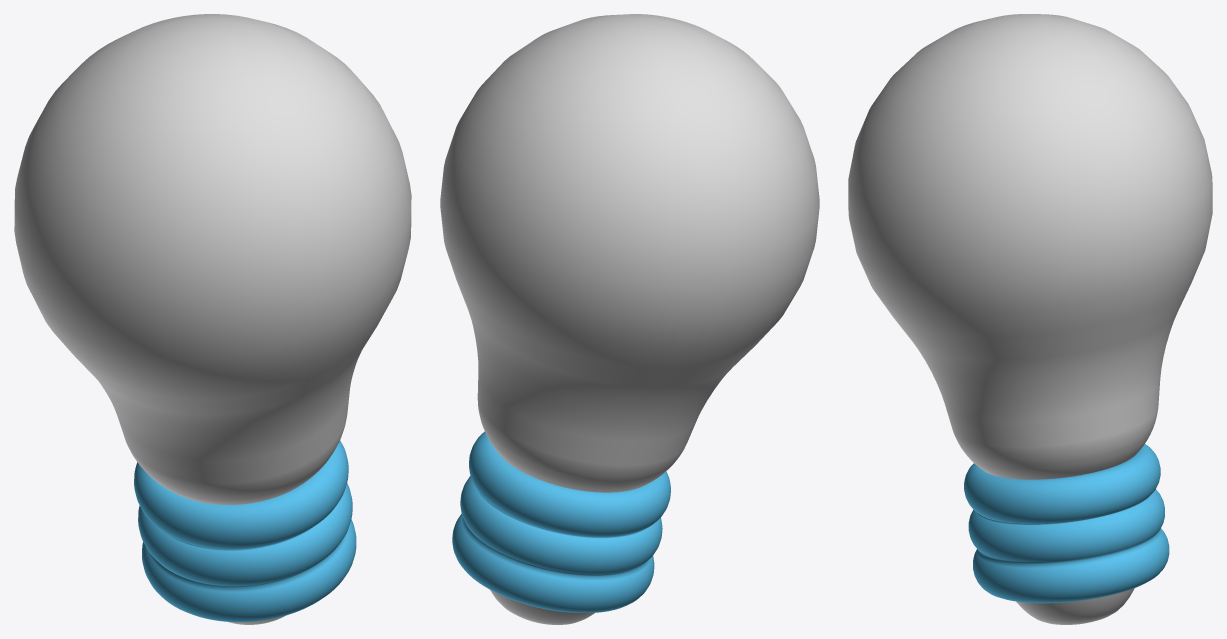
File: shared-creativity.glb
The picture shows the model from 3 angles, left to right: view 1: azimuth 30°, elevation 25°; view 2: azimuth 150°, elevation 25°; view 3: azimuth 270°, elevation 25°; orthographic projection. The views are drawn at different scales.
Visible parts, largest first — view 1: bulb/glass, bottom/color; view 2: bulb/glass, bottom/color, bottom-bulb/glass; view 3: bulb/glass, bottom/color, bottom-bulb/glass.
Part boxes in pixels (x1,y1,x2,y2): bulb/glass: (14, 14, 411, 504); bottom/color: (134, 440, 356, 622); bulb/glass: (440, 14, 819, 492); bottom/color: (452, 431, 670, 612); bottom-bulb/glass: (490, 590, 594, 624); bulb/glass: (848, 14, 1212, 479); bottom/color: (964, 444, 1169, 603); bottom-bulb/glass: (1016, 588, 1134, 624).
Size of the model in its own units: 1.45 by 2.45 by 1.44.
